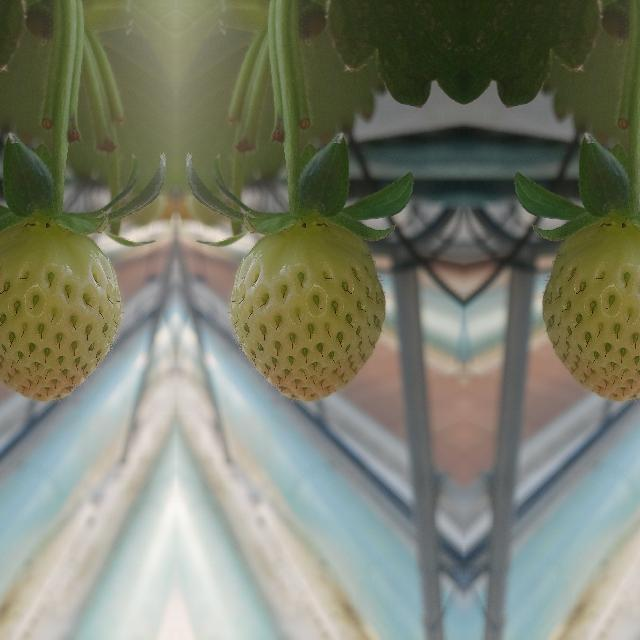Health_50: (228, 226, 384, 400), (0, 225, 121, 400), (542, 225, 640, 400)
